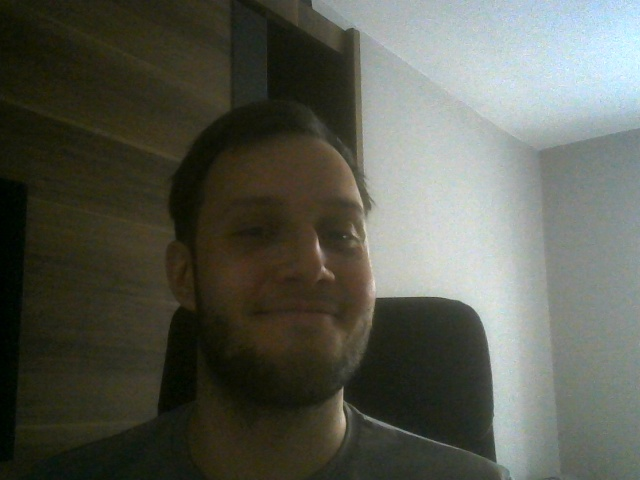happy: (165, 101, 377, 406)
